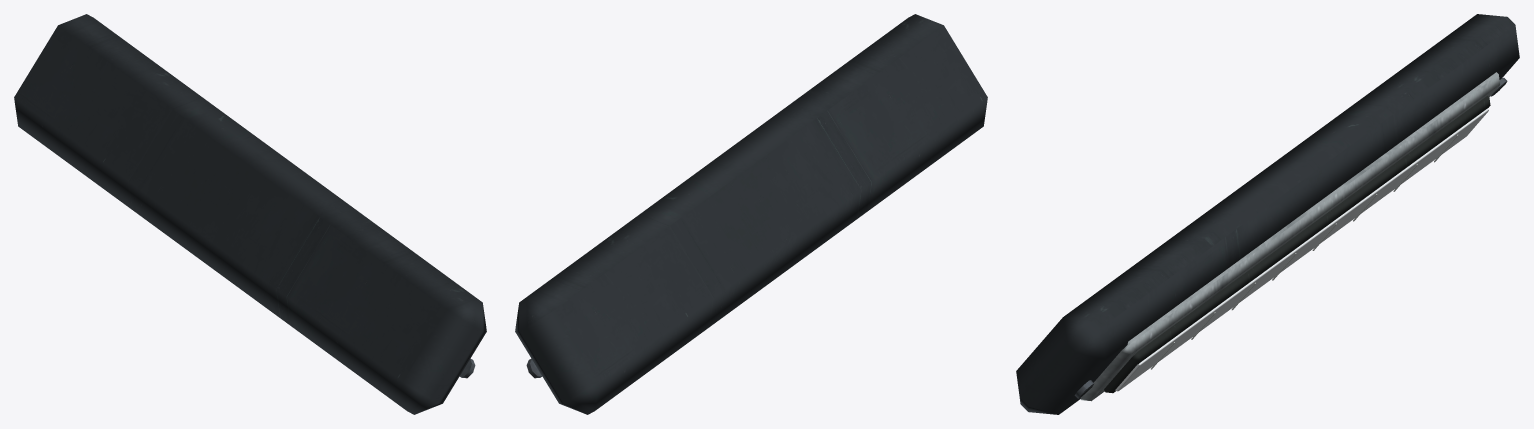
The model's file is prop_lamp.fbx.
3 views of the same model, side by side, from view 1: azimuth 30°, elevation 25°; view 2: azimuth 150°, elevation 25°; view 3: azimuth 330°, elevation 25° (orthographic). The views are drawn at different scales.
Parts seen in each view (by area): view 1: SM_prop_lamp; view 2: SM_prop_lamp; view 3: SM_prop_lamp.
Part boxes in pixels (x1,y1,x2,y2): SM_prop_lamp: (14,14,486,414); SM_prop_lamp: (515,14,987,414); SM_prop_lamp: (1016,14,1519,414).
Size of the model in its own units: 0.0857 by 0.0949 by 0.7.
Materials: 6 (6 with a texture image).
